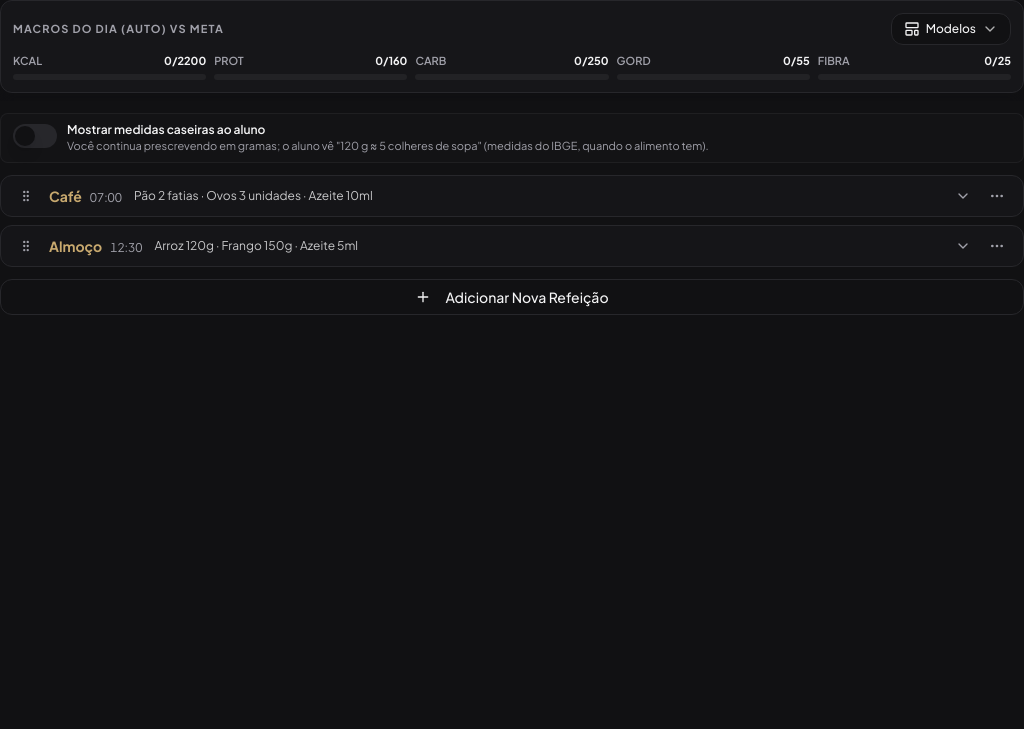
Test: Aba Dieta enxuta › Opção 2 vazia some; '+ Opção 2' mostra ela sem criar outra
Click the button with test id "meal-summary-0" at (65, 196), box [45,182,943,210]
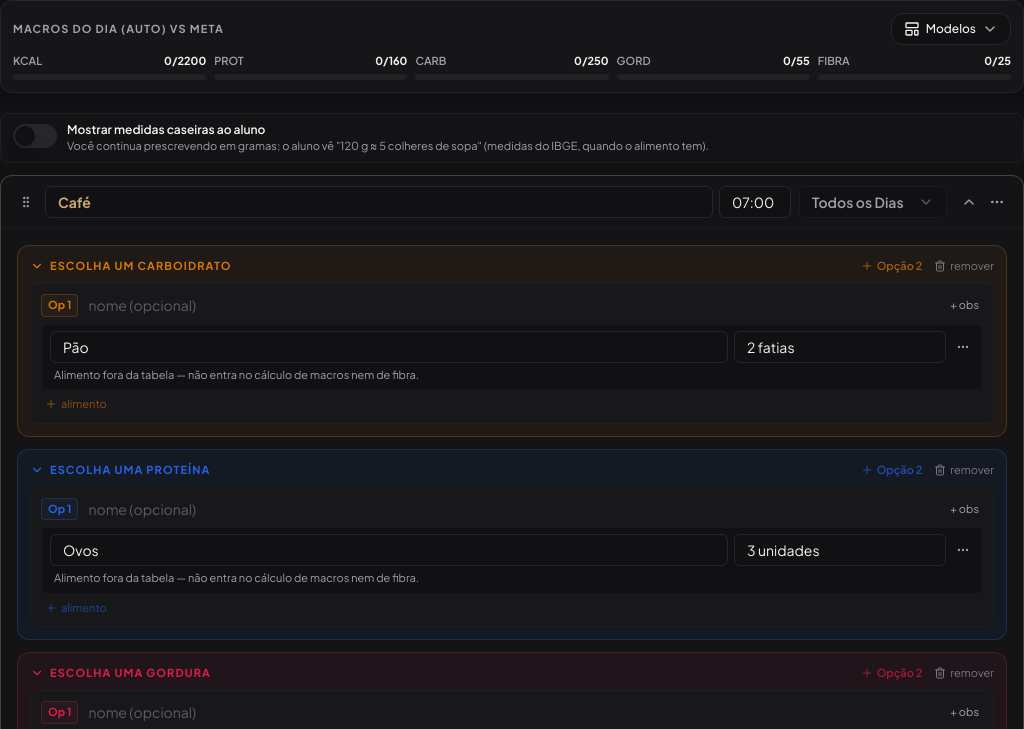
Click the button with test id "add-option-0-carb" at (892, 266), box [861,258,922,274]
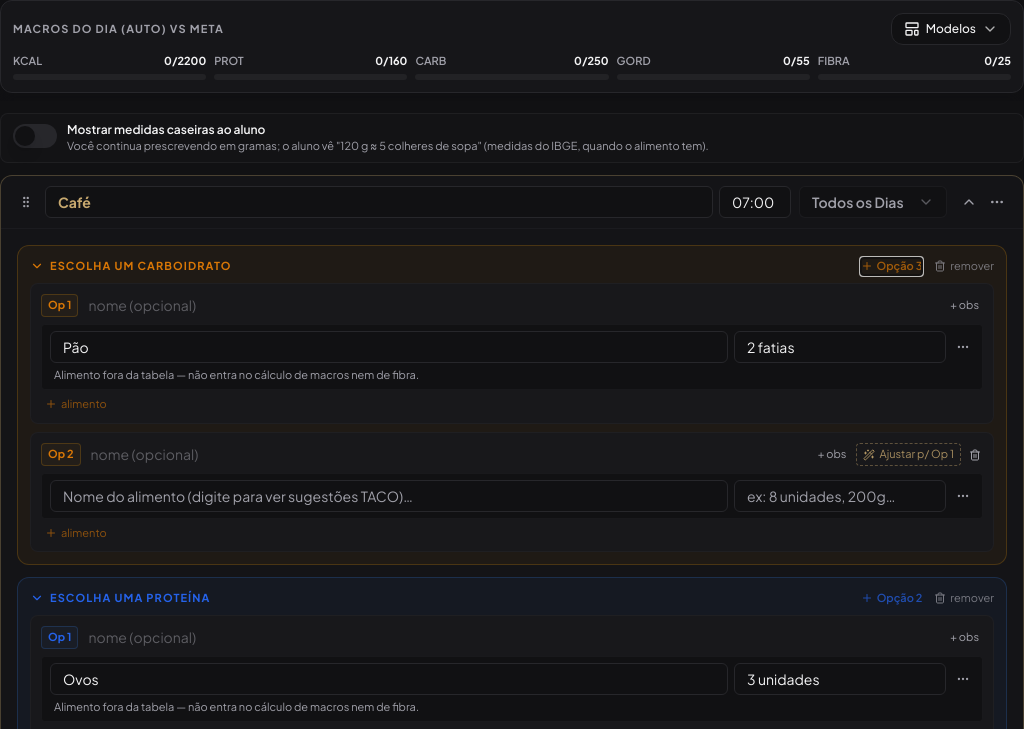
Check: the element with test id "option-0-carb-1" is shown, box [30,432,994,552]
